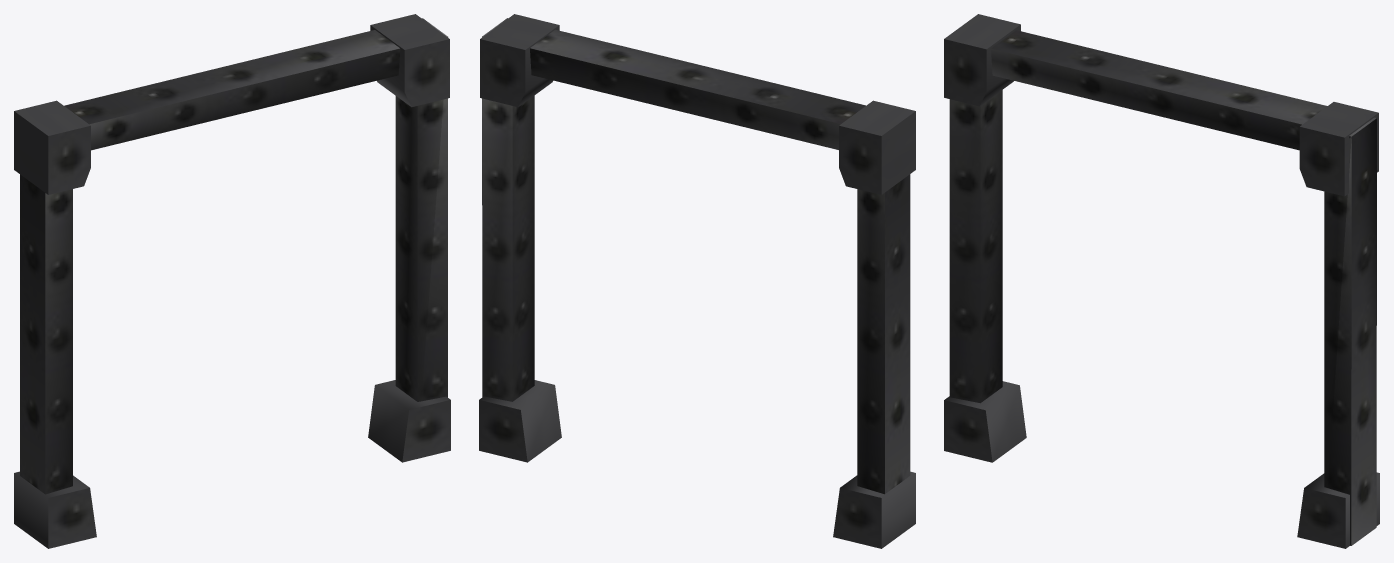
Rendered from door_frame.glb.
3 views of the same model, side by side, from view 1: azimuth 30°, elevation 25°; view 2: azimuth 150°, elevation 25°; view 3: azimuth 330°, elevation 25° (orthographic).
Visible parts, largest first — view 1: doorframe, group2, pCube31, group3, pCube32; view 2: doorframe, group2, pCube31, group3, pCube32; view 3: doorframe, pCube32, group3, group2, pCube31.
Part boxes in pixels (x1,y1,x2,y2): doorframe: (20,18,448,494); group2: (14,100,90,194); pCube31: (368,380,450,462); group3: (370,14,449,107); pCube32: (14,471,96,548); doorframe: (482,18,910,494); group2: (839,100,915,194); pCube31: (479,380,561,462); group3: (480,14,559,107); pCube32: (833,471,915,548); doorframe: (949,30,1376,545); pCube32: (944,381,1026,462); group3: (1299,102,1378,196); group2: (944,14,1020,106); pCube31: (1297,472,1379,548).
Size of the model in its own units: 15.59 by 15.21 by 2.29.
1 material, 1 textured.
